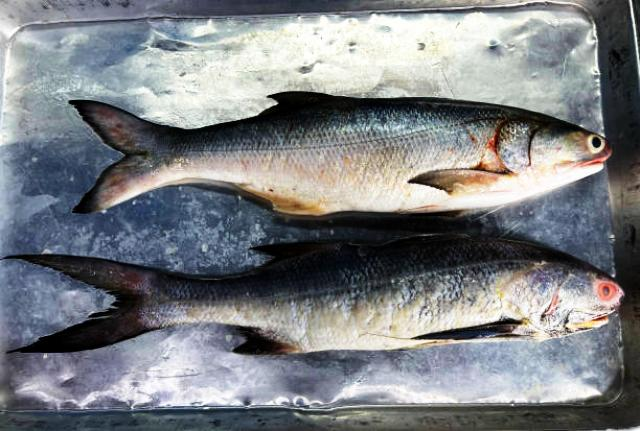Healthy Fish: (70, 92, 612, 225)
